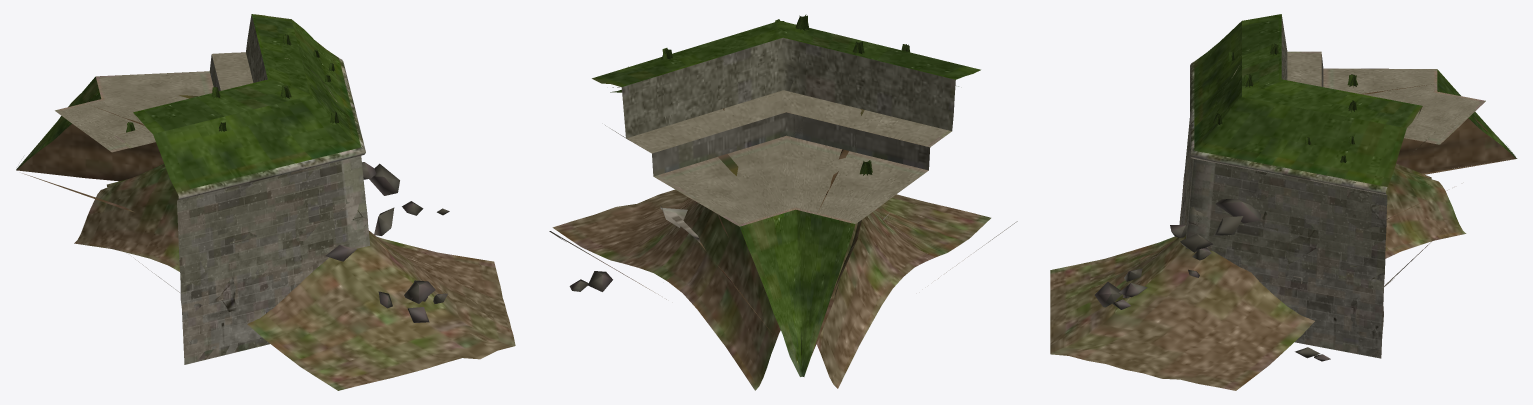
File: starfort_bastion_shoulder_a66_hero.glb
3 views of the same model, side by side, from view 1: azimuth 30°, elevation 25°; view 2: azimuth 150°, elevation 25°; view 3: azimuth 270°, elevation 25° (orthographic). The views are drawn at different scales.
Parts seen in each view (by area): view 1: breached, intact, cracked; view 2: breached, intact, cracked; view 3: breached, intact, cracked.
Boxes of the visible parts, box(x1,y1,x2,y2) form: breached: box(17, 14, 515, 390); intact: box(16, 16, 370, 359); cracked: box(16, 14, 367, 361); breached: box(552, 46, 990, 390); intact: box(592, 21, 953, 376); cracked: box(569, 14, 980, 376); breached: box(1050, 14, 1517, 390); intact: box(1180, 19, 1511, 358); cracked: box(1181, 16, 1516, 361).
Size of what is drawn, in the model's own units: 10.25 by 6.51 by 12.35.
Materials: 2 (2 with a texture image).
